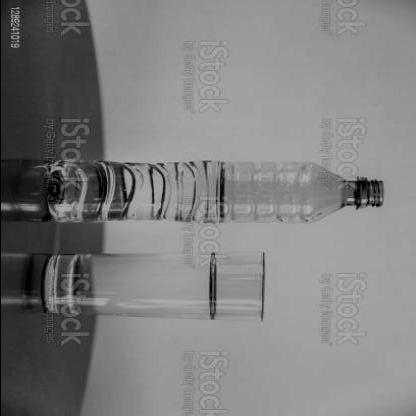bottle: (50, 154, 383, 229)
